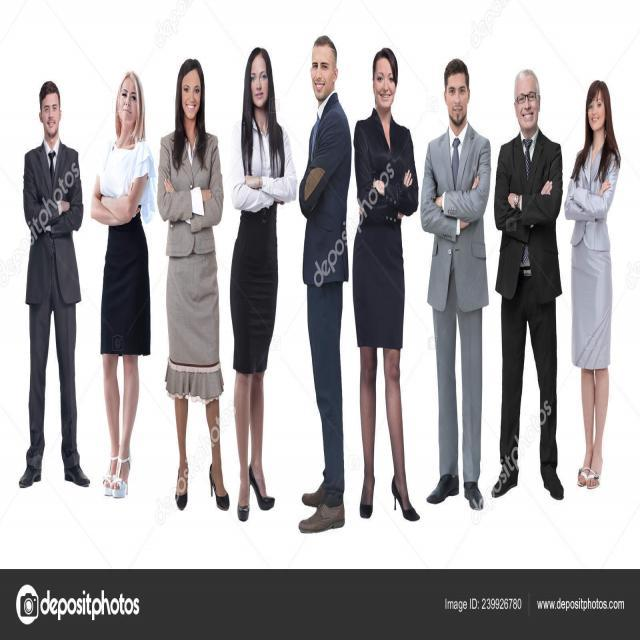No_Goggles: (308, 55, 334, 71), (514, 92, 539, 107), (371, 68, 394, 84), (444, 84, 467, 98), (118, 88, 139, 103), (181, 84, 202, 97), (249, 71, 269, 84), (586, 97, 605, 110), (40, 101, 62, 112)
No_Harness: (426, 140, 486, 239), (165, 144, 220, 242), (502, 144, 556, 242), (25, 149, 80, 238)
No_Shoe: (390, 471, 417, 525), (248, 455, 273, 510), (208, 449, 230, 508), (107, 451, 132, 498), (173, 452, 192, 506), (578, 459, 604, 491), (356, 487, 376, 521)
